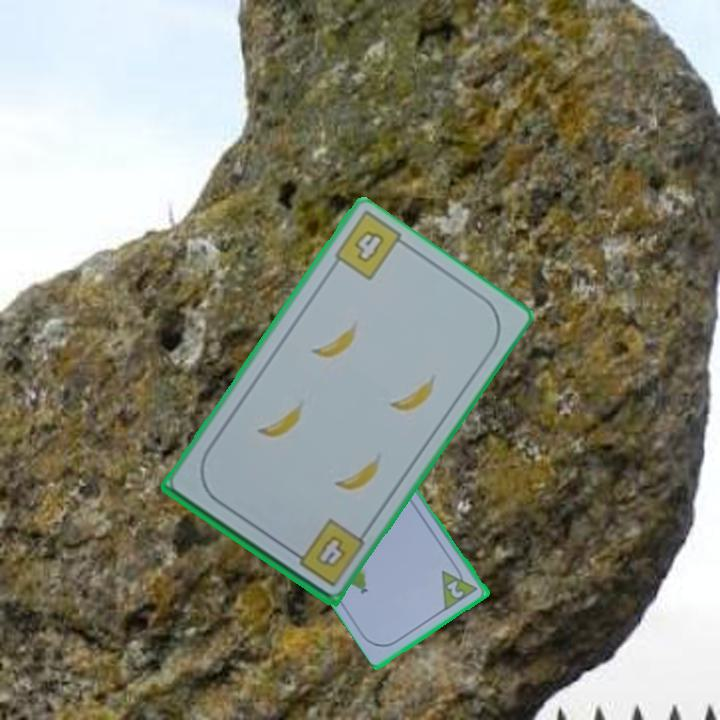2p: (438, 560, 481, 613)
4b: (285, 515, 368, 590), (350, 225, 388, 266)
